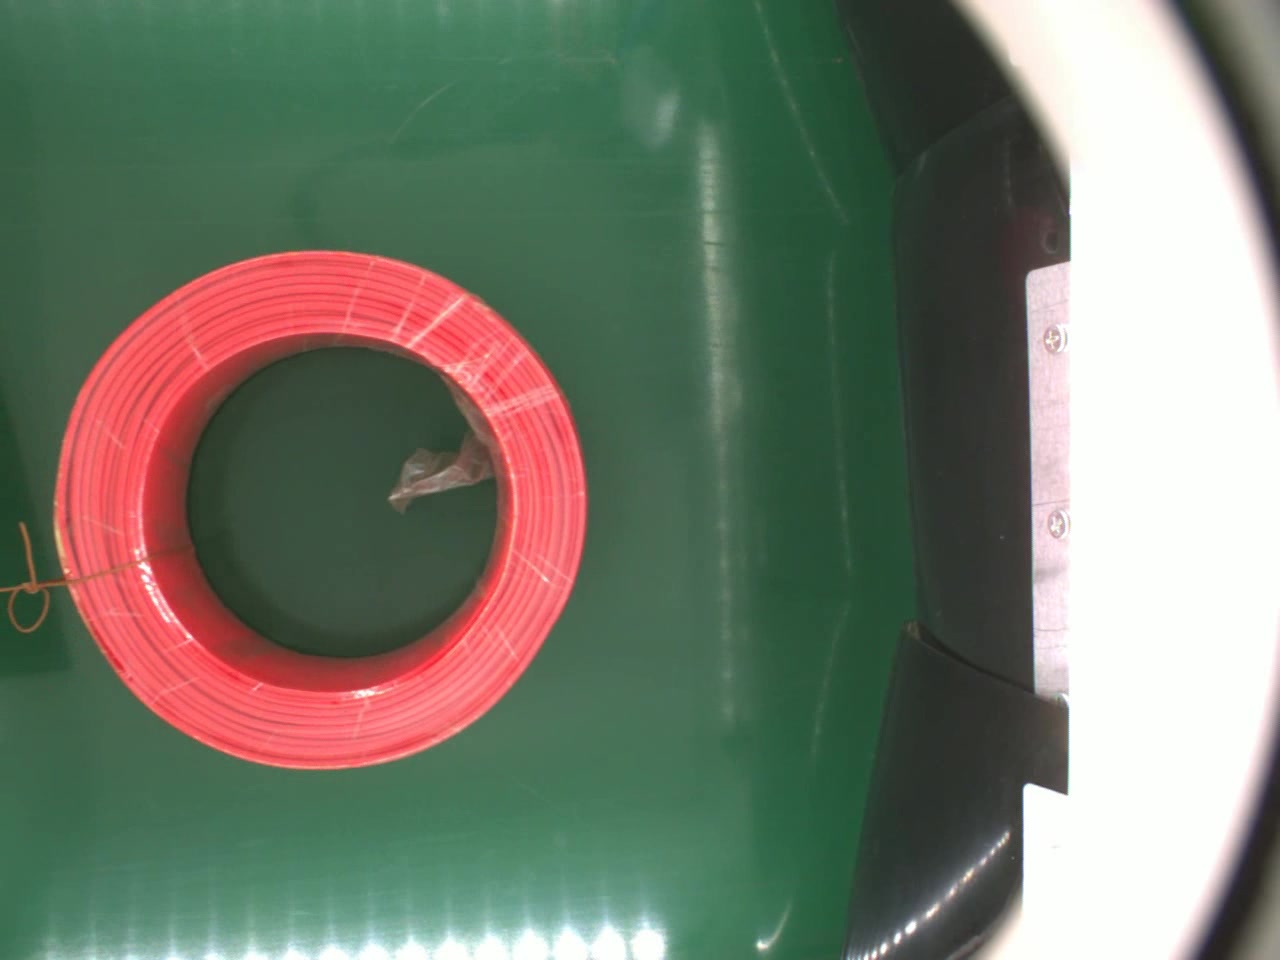red: (53, 248, 591, 772)
